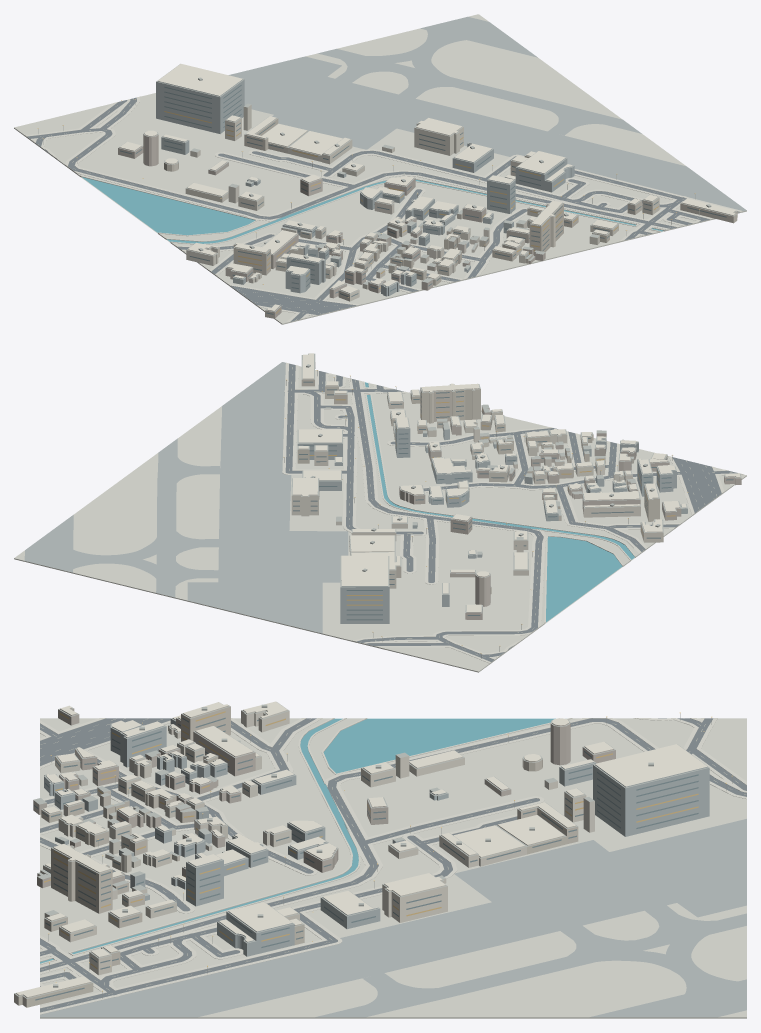
3 views of the same model, one above another, from view 1: azimuth 30°, elevation 25°; view 2: azimuth 150°, elevation 25°; view 3: azimuth 270°, elevation 25° (orthographic). The views are drawn at different scales.
Parts seen in each view (by area): view 1: city; view 2: city; view 3: city.
Part boxes in pixels (left/top/right/bottom): city: left=14, top=14, right=746, bottom=324; city: left=14, top=353, right=746, bottom=672; city: left=14, top=701, right=746, bottom=1018.
Bounding box in the file's own units: 507 × 40.95 × 518.
